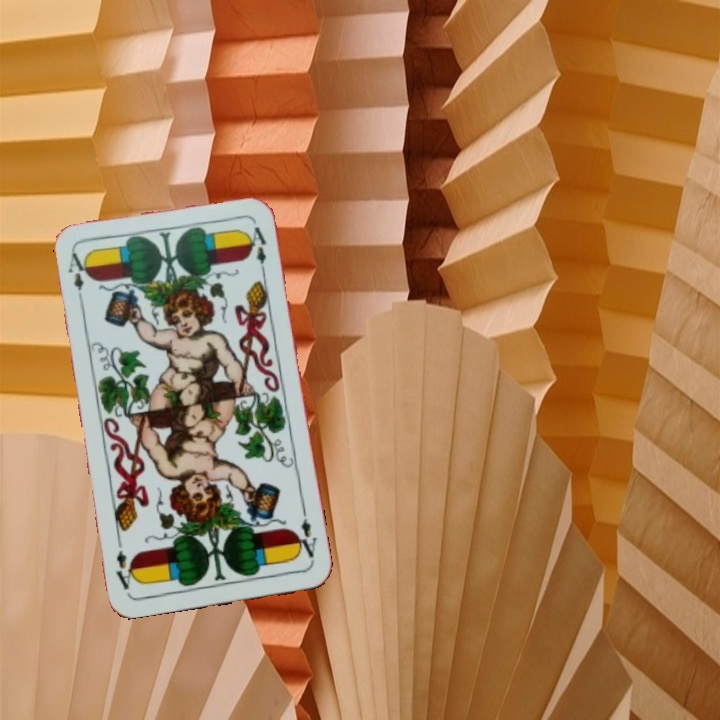EA: (63, 248, 92, 306), (291, 506, 319, 565)
